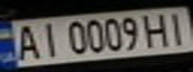0: (63, 18, 87, 55), (84, 16, 106, 54), (103, 15, 124, 52)
9: (118, 14, 142, 52)
A: (9, 23, 42, 62)
H: (139, 11, 175, 48)
I: (33, 20, 63, 58), (163, 9, 193, 45)
